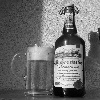beer: (11, 43, 54, 100)
